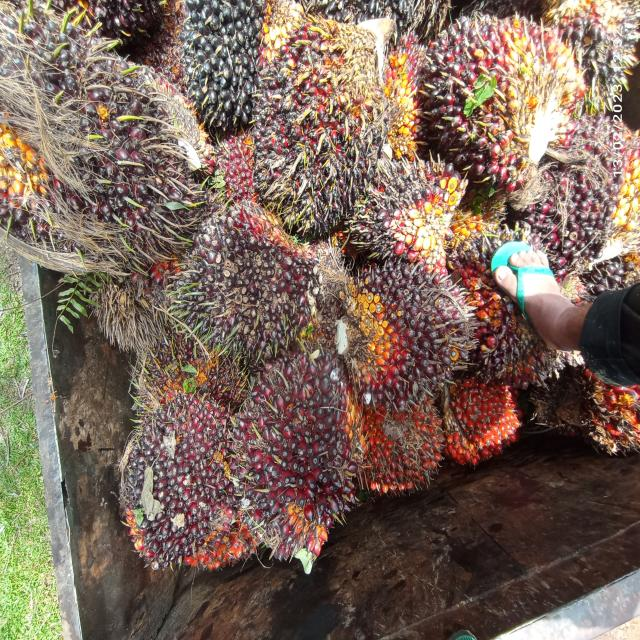fraksi 00: (160, 178, 340, 393), (166, 0, 280, 133), (357, 144, 468, 276)
fraksi 1: (0, 3, 211, 274), (104, 372, 274, 599), (409, 0, 578, 201), (246, 11, 386, 250), (220, 363, 365, 587), (332, 237, 472, 432), (520, 93, 640, 299)
fraksi 3: (212, 118, 260, 218)
fraksi 4: (342, 380, 458, 538), (440, 363, 542, 476)
